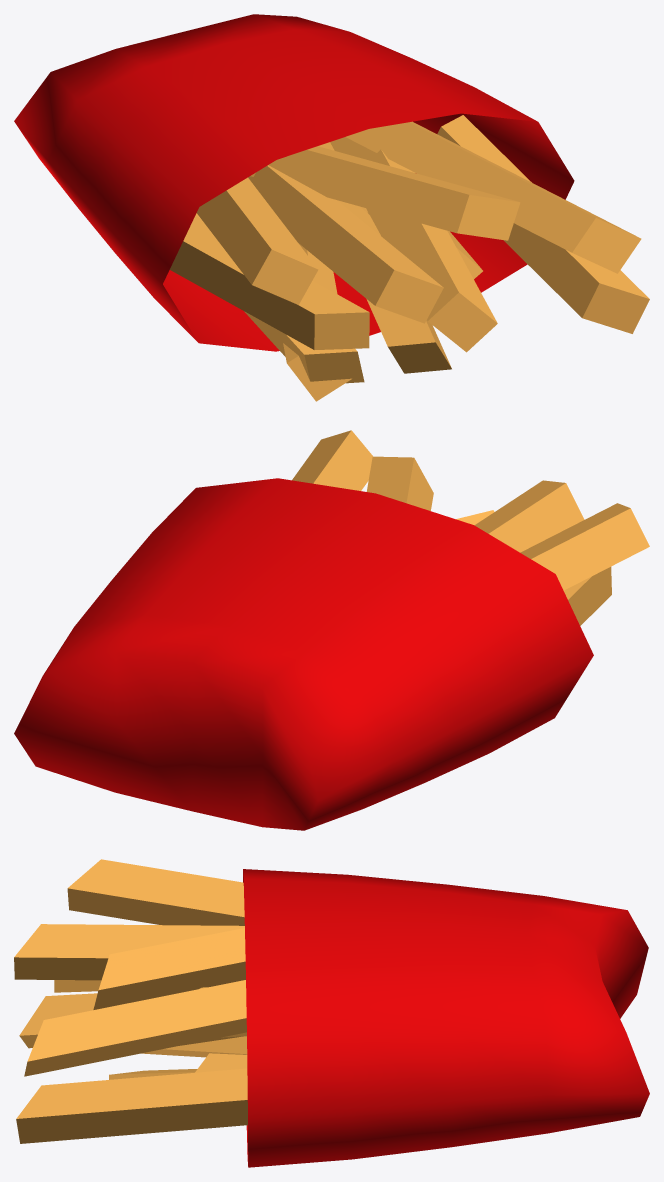
The model's file is fries.fbx.
3 views of the same model, one above another, from view 1: azimuth 30°, elevation 25°; view 2: azimuth 150°, elevation 25°; view 3: azimuth 270°, elevation 25° (orthographic). The views are drawn at different scales.
Visible parts, largest first — view 1: Cube.158; view 2: Cube.158; view 3: Cube.158.
Boxes of the visible parts, x1,y1,x2,y2 form: Cube.158: [14, 14, 649, 401]; Cube.158: [14, 430, 649, 830]; Cube.158: [14, 859, 649, 1167].
Bounding box in the file's own units: 51.22 × 24.59 × 69.07.
